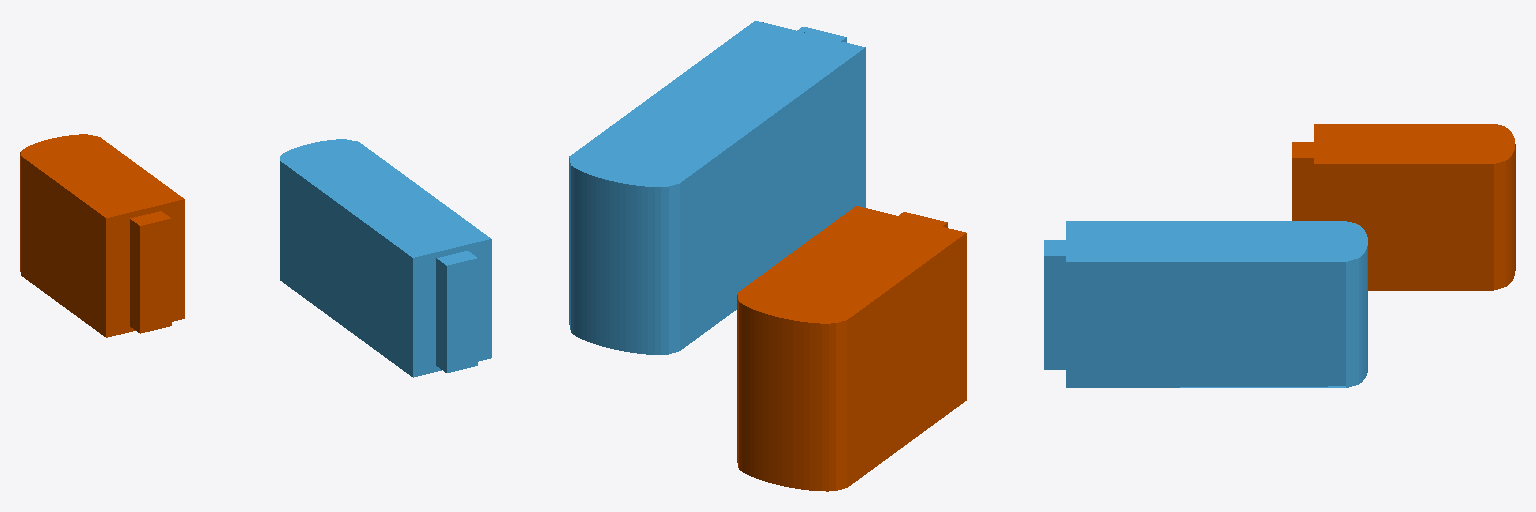
URDF robot description (3v3_47.5.25.0.27.5_40.0.32.5.27.5_0.975.1_53):
<?xml version="1.0" ?>
<robot name="3v3_47.5.25.0.27.5_40.0.32.5.27.5_0.975.1_53">

    <link name="palm">
        <visual>
            <origin rpy="0 0 0" xyz="0 0 0"/>
            <geometry>
                <mesh filename="obj_files/palm.obj" scale="1 1 1"/>
            </geometry>
        </visual>
        <collision>
            <geometry>
                <mesh filename="obj_files/palm_collision.obj" scale="1 1 1"/>
            </geometry>
        </collision>
    </link>

    <link name="finger0_segment0">
        <visual>
            <origin rpy="0 0 0" xyz="0 0 0"/>
            <geometry>
                <mesh filename="obj_files/finger0_segment0.obj" scale="1 1 1"/>
            </geometry>
        </visual>
        <collision>
            <geometry>
                <mesh filename="obj_files/finger0_segment0_collision.obj" scale="1 1 1"/>
            </geometry>
        </collision>
    </link>

    <joint name="finger0_segment0_joint" type="revolute">
        <parent link="palm"/>
        <child link="finger0_segment0"/>
        <origin rpy="0 0 0" xyz="0.0265 0 0.0"/>
        <axis xyz="0 0 1"/>
        <limit effort="1000.0" lower="-3.14" upper="3.14" velocity="0.5"/>
    </joint>

    <link name="finger0_segment1">
        <visual>
            <origin rpy="0 0 0" xyz="0 0 0"/>
            <geometry>
                <mesh filename="obj_files/finger0_segment1.obj" scale="1 1 1"/>
            </geometry>
        </visual>
        <collision>
            <geometry>
                <mesh filename="obj_files/finger0_segment1_collision.obj" scale="1 1 1"/>
            </geometry>
        </collision>
    </link>

    <joint name="finger0_segment1_joint" type="revolute">
        <parent link="finger0_segment0"/>
        <child link="finger0_segment1"/>
        <origin rpy="0 0 0" xyz="0 0.06926582278481012 0"/>
        <axis xyz="0 0 1"/>
        <limit effort="1000.0" lower="-3.14" upper="3.14" velocity="0.5"/>
    </joint>

    <link name="finger0_segment2">
        <visual>
            <origin rpy="0 0 0" xyz="0 0 0"/>
            <geometry>
                <mesh filename="obj_files/finger0_segment2.obj" scale="1 1 1"/>
            </geometry>
        </visual>
        <collision>
            <geometry>
                <mesh filename="obj_files/finger0_segment2_collision.obj" scale="1 1 1"/>
            </geometry>
        </collision>
    </link>

    <joint name="finger0_segment2_joint" type="revolute">
        <parent link="finger0_segment1"/>
        <child link="finger0_segment2"/>
        <origin rpy="0 0 0" xyz="0 0.03645569620253164 0"/>
        <axis xyz="0 0 1"/>
        <limit effort="1000.0" lower="-3.14" upper="3.14" velocity="0.5"/>
    </joint>

    <link name="finger1_segment0">
        <visual>
            <origin rpy="0 0 0" xyz="0 0 0"/>
            <geometry>
                <mesh filename="obj_files/finger1_segment0.obj" scale="1 1 1"/>
            </geometry>
        </visual>
        <collision>
            <geometry>
                <mesh filename="obj_files/finger1_segment0_collision.obj" scale="1 1 1"/>
            </geometry>
        </collision>
    </link>

    <joint name="finger1_segment0_joint" type="revolute">
        <parent link="palm"/>
        <child link="finger1_segment0"/>
        <origin rpy="0 0 0" xyz="-0.0265 0 3.2453140177404857e-18"/>
        <axis xyz="0 0 1"/>
        <limit effort="1000.0" lower="-3.14" upper="3.14" velocity="0.5"/>
    </joint>

    <link name="finger1_segment1">
        <visual>
            <origin rpy="0 0 0" xyz="0 0 0"/>
            <geometry>
                <mesh filename="obj_files/finger1_segment1.obj" scale="1 1 1"/>
            </geometry>
        </visual>
        <collision>
            <geometry>
                <mesh filename="obj_files/finger1_segment1_collision.obj" scale="1 1 1"/>
            </geometry>
        </collision>
    </link>

    <joint name="finger1_segment1_joint" type="revolute">
        <parent link="finger1_segment0"/>
        <child link="finger1_segment1"/>
        <origin rpy="0 0 0" xyz="0 0.05687088607594936 0"/>
        <axis xyz="0 0 1"/>
        <limit effort="1000.0" lower="-3.14" upper="3.14" velocity="0.5"/>
    </joint>

    <link name="finger1_segment2">
        <visual>
            <origin rpy="0 0 0" xyz="0 0 0"/>
            <geometry>
                <mesh filename="obj_files/finger1_segment2.obj" scale="1 1 1"/>
            </geometry>
        </visual>
        <collision>
            <geometry>
                <mesh filename="obj_files/finger1_segment2_collision.obj" scale="1 1 1"/>
            </geometry>
        </collision>
    </link>

    <joint name="finger1_segment2_joint" type="revolute">
        <parent link="finger1_segment1"/>
        <child link="finger1_segment2"/>
        <origin rpy="0 0 0" xyz="0 0.046207594936708854 0"/>
        <axis xyz="0 0 1"/>
        <limit effort="1000.0" lower="-3.14" upper="3.14" velocity="0.5"/>
    </joint>

</robot>

--- Render facts (derived) ---
3 views of the same robot in one strip: view 1: azimuth 30°, elevation 25°; view 2: azimuth 150°, elevation 25°; view 3: azimuth 270°, elevation 25° (orthographic).
Model 3v3_47.5.25.0.27.5_40.0.32.5.27.5_0.975.1_53 with 7 links and 6 joints (6 revolute), rooted at palm, posed all joints at 0.
Visible links, largest first — view 1: finger0_segment0, finger1_segment1; view 2: finger0_segment0, finger1_segment1; view 3: finger0_segment0, finger1_segment1.
Link boxes in pixels (box(x1,y1,x2,y2)): finger0_segment0: box(280, 139, 491, 377); finger1_segment1: box(20, 134, 184, 337); finger0_segment0: box(569, 21, 865, 354); finger1_segment1: box(737, 206, 966, 491); finger0_segment0: box(1044, 221, 1367, 387); finger1_segment1: box(1292, 124, 1515, 290).
Bounding box of the posed robot: 0.075 × 0.1081 × 0.032 m (x, y, z).
Meshes: 7 distinct files referenced, 2 mesh visuals loaded (2 OBJ); not drawn: 5 (reference not matched to a file when rendering).